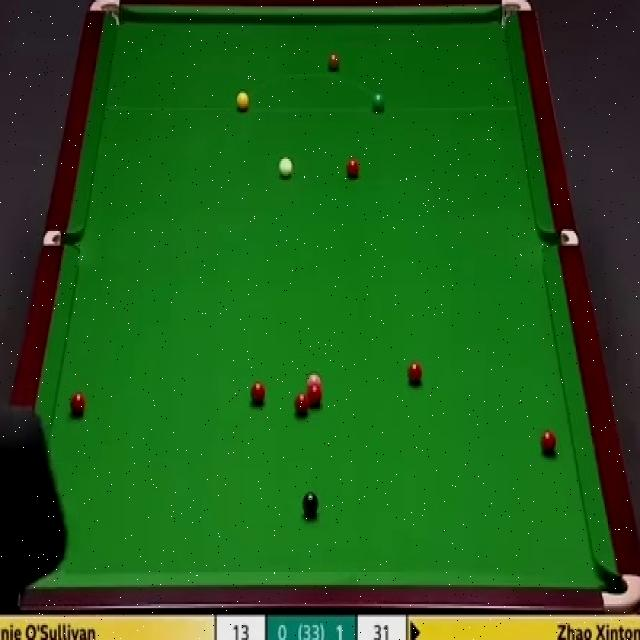black-ball: (302, 489, 320, 518)
brown-ball: (327, 52, 339, 71)
green-ball: (371, 90, 385, 112)
pink-ball: (306, 371, 323, 390)
red-ball: (539, 428, 557, 453), (407, 360, 423, 384), (250, 382, 266, 405), (69, 389, 84, 413), (294, 394, 310, 416), (345, 157, 361, 179), (306, 388, 322, 405)
white-ball: (278, 157, 294, 180)
yellow-ball: (236, 90, 250, 110)
